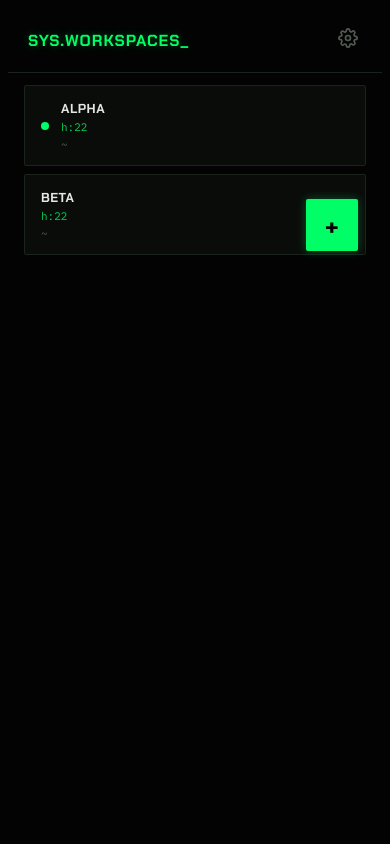
it: WorkspaceListScreen disconnect › does not offer Disconnect for a workspace that is not connected
This screenshot has width=390, height=844.
Right-click the text "beta": (58, 198) top-left (41, 189), bottom-right (74, 206)
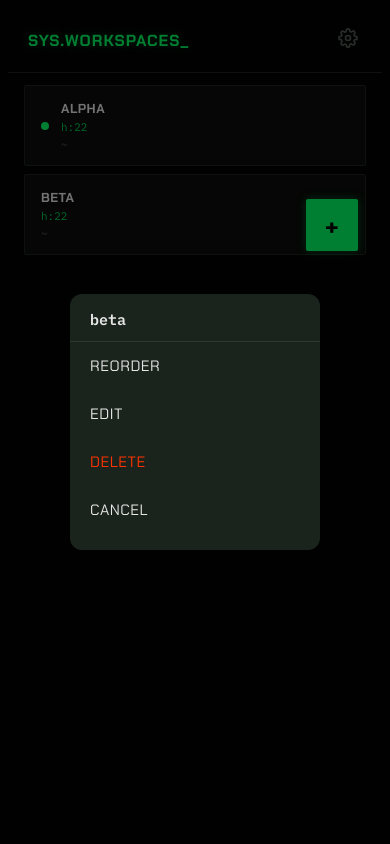
Expected: the button "Edit" is shown, top-left (70, 390), bottom-right (320, 438)
